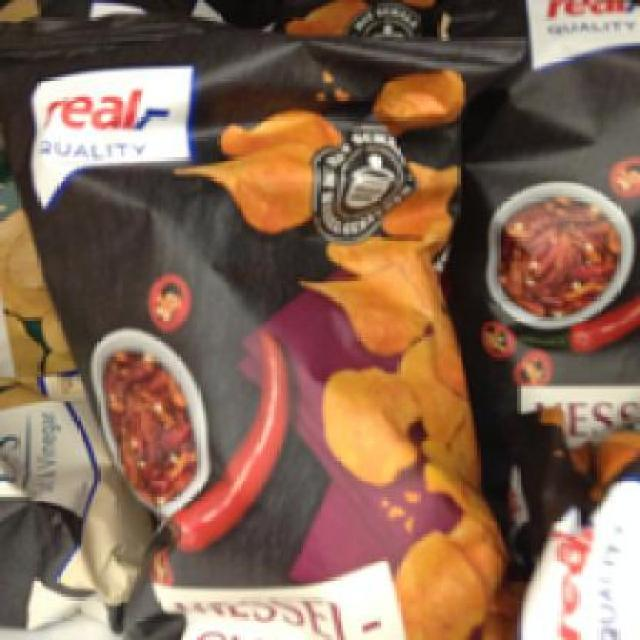Chips: (0, 21, 512, 638)
